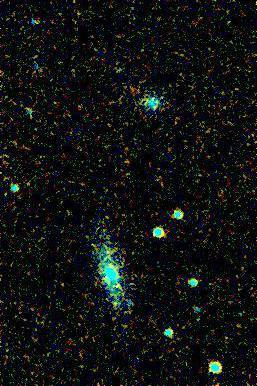star: (101, 291, 131, 321)
